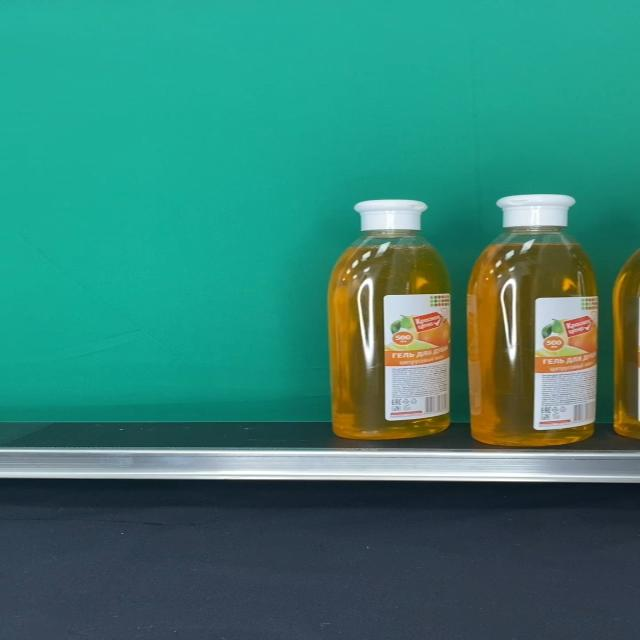Bottle: (468, 194, 598, 446), (328, 200, 452, 440)
Cap: (493, 194, 575, 227), (355, 200, 429, 230)
